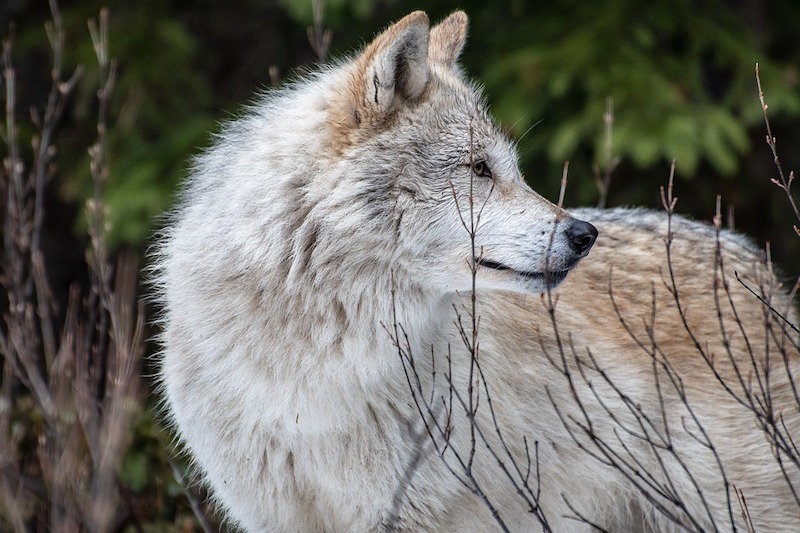Lobo: (142, 2, 734, 473)
